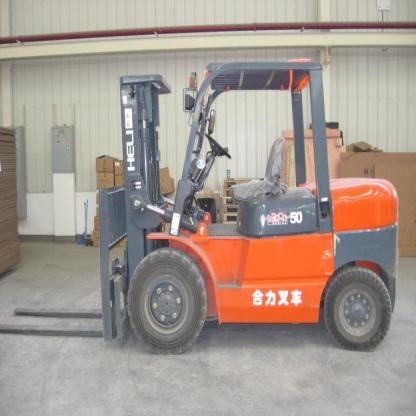box: (95, 153, 117, 171), (96, 171, 114, 188)
forklift: (98, 59, 398, 353)
